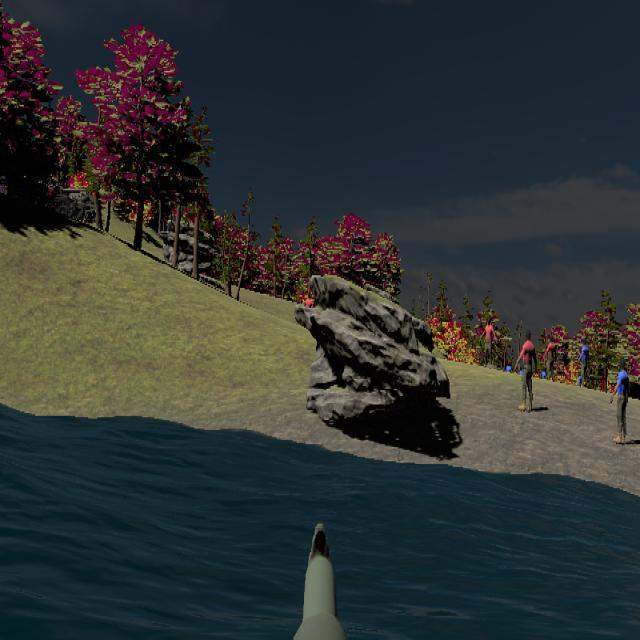Human: (515, 330, 538, 412), (610, 357, 629, 446), (610, 358, 629, 445), (480, 317, 498, 369), (543, 335, 557, 382), (579, 338, 590, 389), (579, 338, 589, 389)
